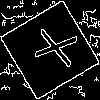X: (25, 25, 78, 68)
